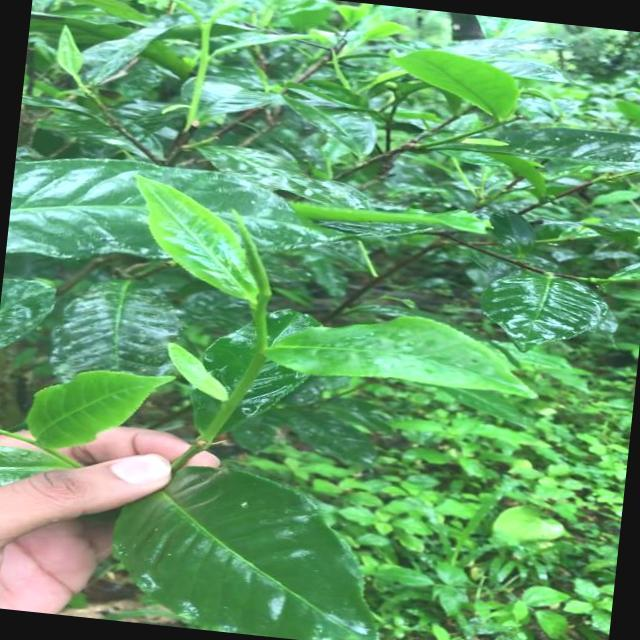Stem: (257, 352, 265, 362)
